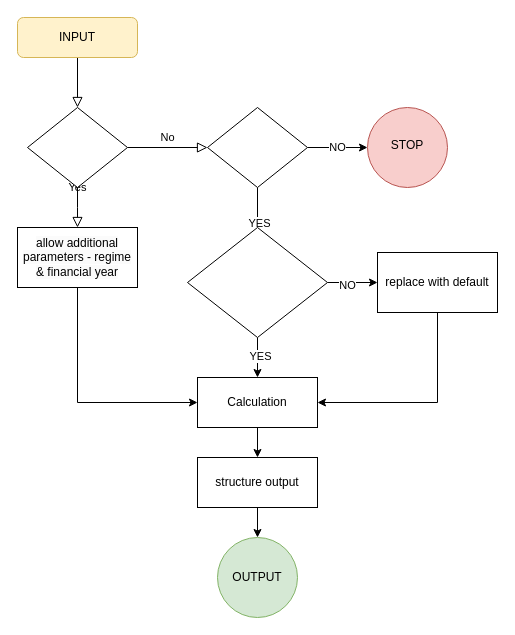
The diagram is 515 pixels wide and 635 high, and some of its shapes have lost their labels. The box of each missing label's shape, as (x1, y1, x2, y2) in pixels:
all required fields are present: (186, 226, 328, 338)
is data frame: (206, 106, 308, 188)
is numeric: (26, 106, 128, 188)
